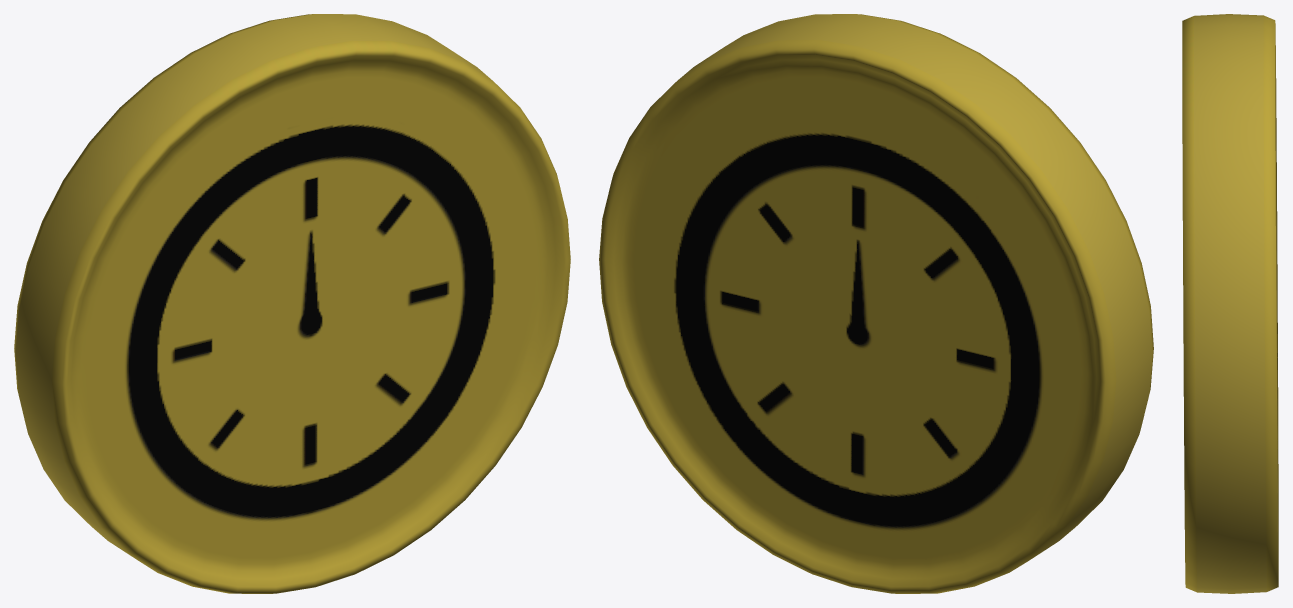
File: extratime_pickup_coin.glb
3 renders of one model, left to right at view 1: azimuth 30°, elevation 25°; view 2: azimuth 150°, elevation 25°; view 3: azimuth 270°, elevation 25°, orthographic. The views are drawn at different scales.
Visible parts, largest first — view 1: Object_3, Object_2; view 2: Object_3, Object_2; view 3: Object_2, Object_3.
Part boxes in pixels (x1=…): Object_3: x1=14, y1=14, x2=570, y2=593; Object_2: x1=15, y1=14, x2=492, y2=566; Object_3: x1=599, y1=14, x2=1153, y2=593; Object_2: x1=678, y1=14, x2=1152, y2=569; Object_2: x1=1194, y1=14, x2=1266, y2=593; Object_3: x1=1182, y1=15, x2=1278, y2=592.
Bounding box in the file's own units: 1.98 × 1.98 × 0.3284.
Materials: 1 (1 with a texture image).
